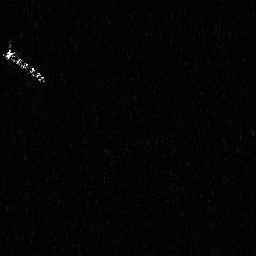ship: (1, 42, 48, 83)
